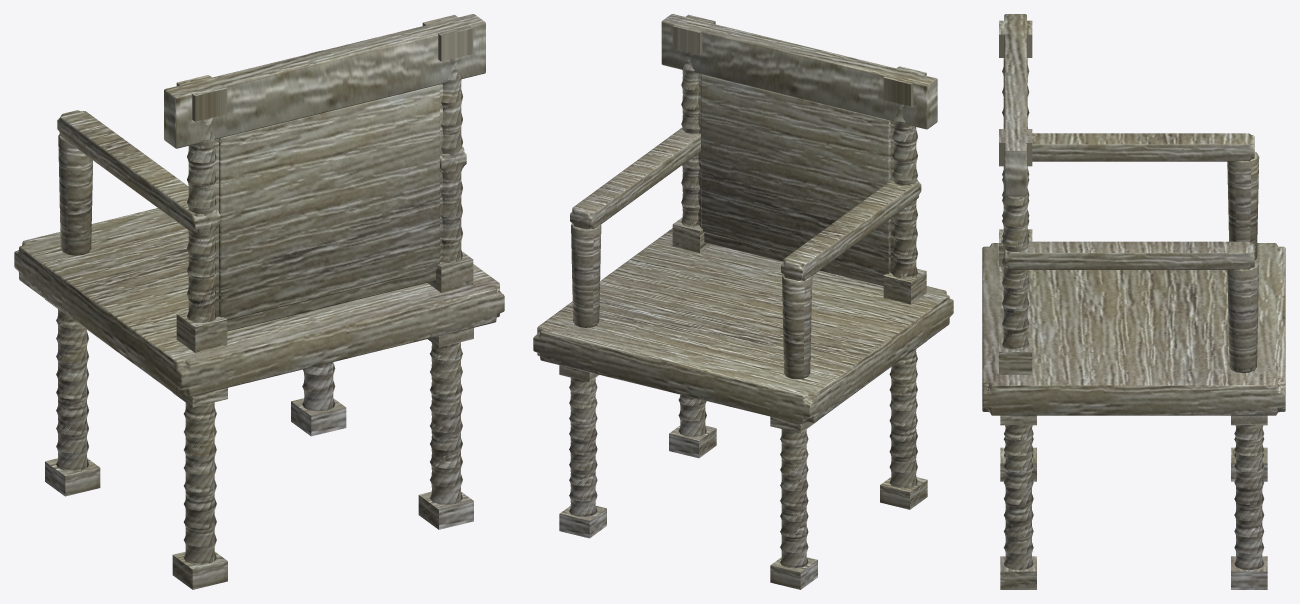
File: Antique_Chair_10.fbx
3 renders of one model, left to right at view 1: azimuth 30°, elevation 25°; view 2: azimuth 150°, elevation 25°; view 3: azimuth 270°, elevation 25°, orthographic. The views are drawn at different scales.
Visible parts, largest first — view 1: Antique_Chair; view 2: Antique_Chair; view 3: Antique_Chair.
Boxes of the visible parts, <box> form: Antique_Chair: <box>14,14,504,589</box>; Antique_Chair: <box>533,14,953,589</box>; Antique_Chair: <box>982,14,1285,589</box>.
Size of the model in its own units: 0.59 by 0.86 by 0.53.
Materials: 1 (1 with a texture image).
